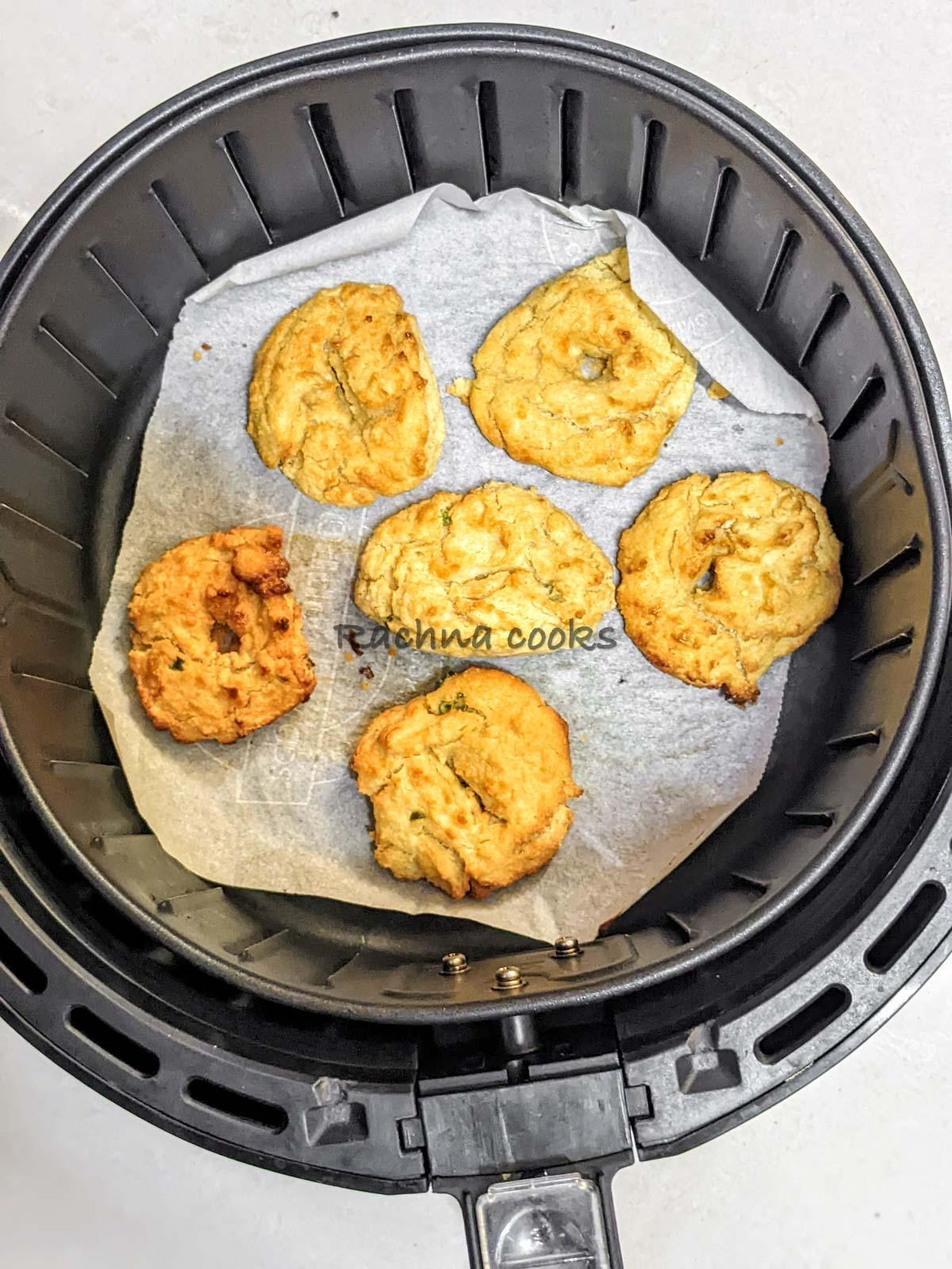mvada: (216, 291, 685, 558)
